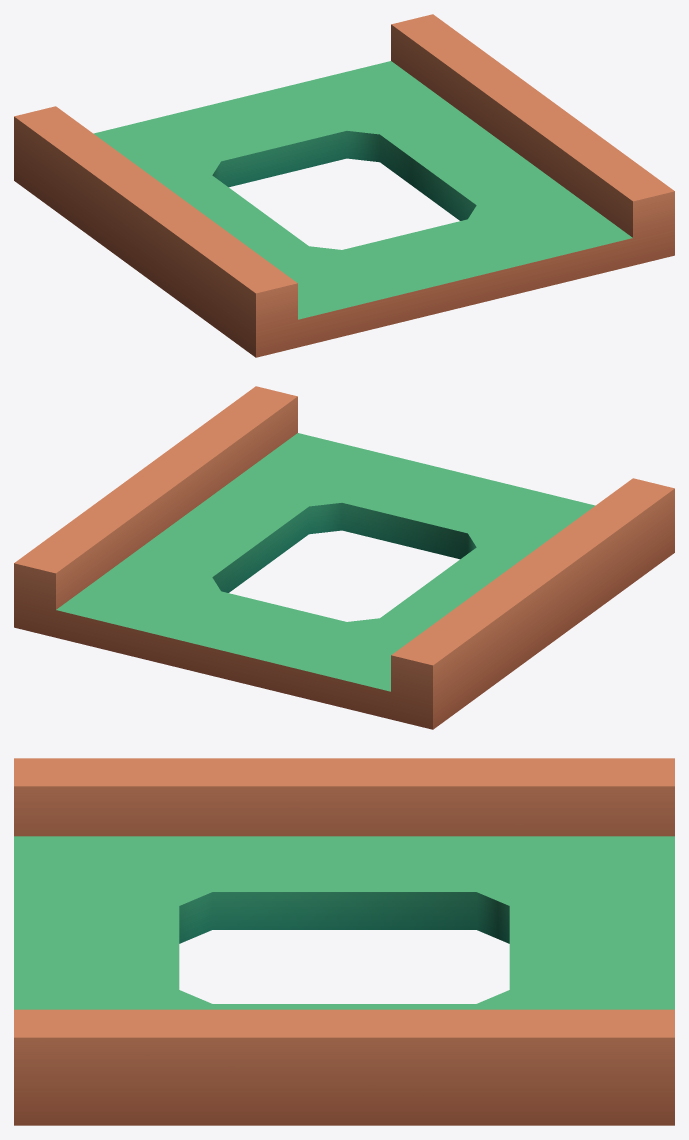
The model's file is gap.glb.
The picture shows the model from 3 angles, top to bottom: view 1: azimuth 30°, elevation 25°; view 2: azimuth 150°, elevation 25°; view 3: azimuth 270°, elevation 25°; orthographic projection. The views are drawn at different scales.
Parts seen in each view (by area): view 1: gap; view 2: gap; view 3: gap.
Part boxes in pixels (bbox=[...]): gap: bbox=[14, 14, 674, 357]; gap: bbox=[14, 386, 674, 729]; gap: bbox=[14, 758, 674, 1125].
Bounding box in the file's own units: 0.9999 × 0.1467 × 0.9999.
Materials: 1 (1 with a texture image).
